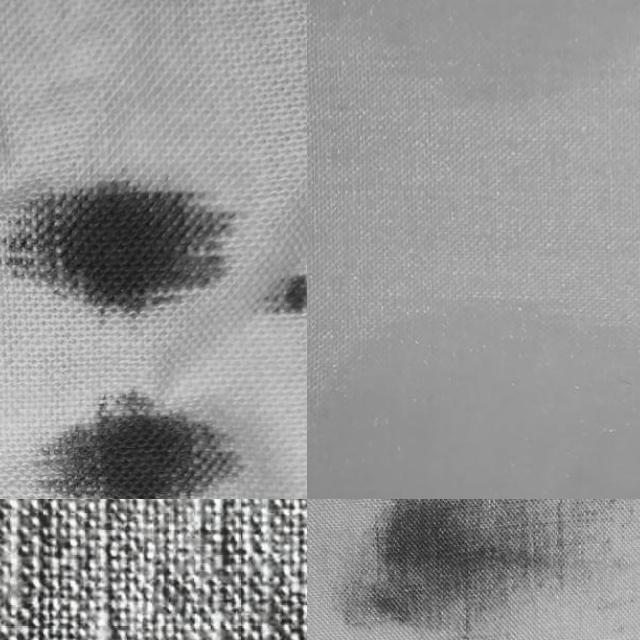Hole: (0, 170, 307, 499), (317, 499, 640, 640)
